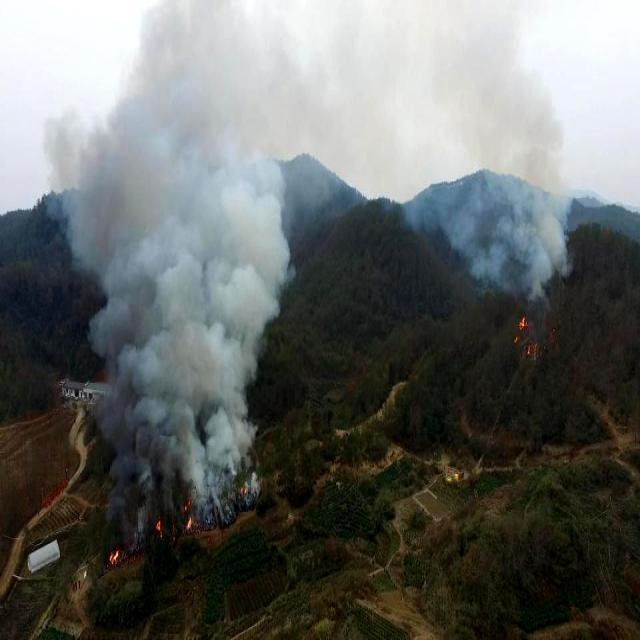Smoke: (56, 0, 294, 505), (439, 51, 576, 292)
